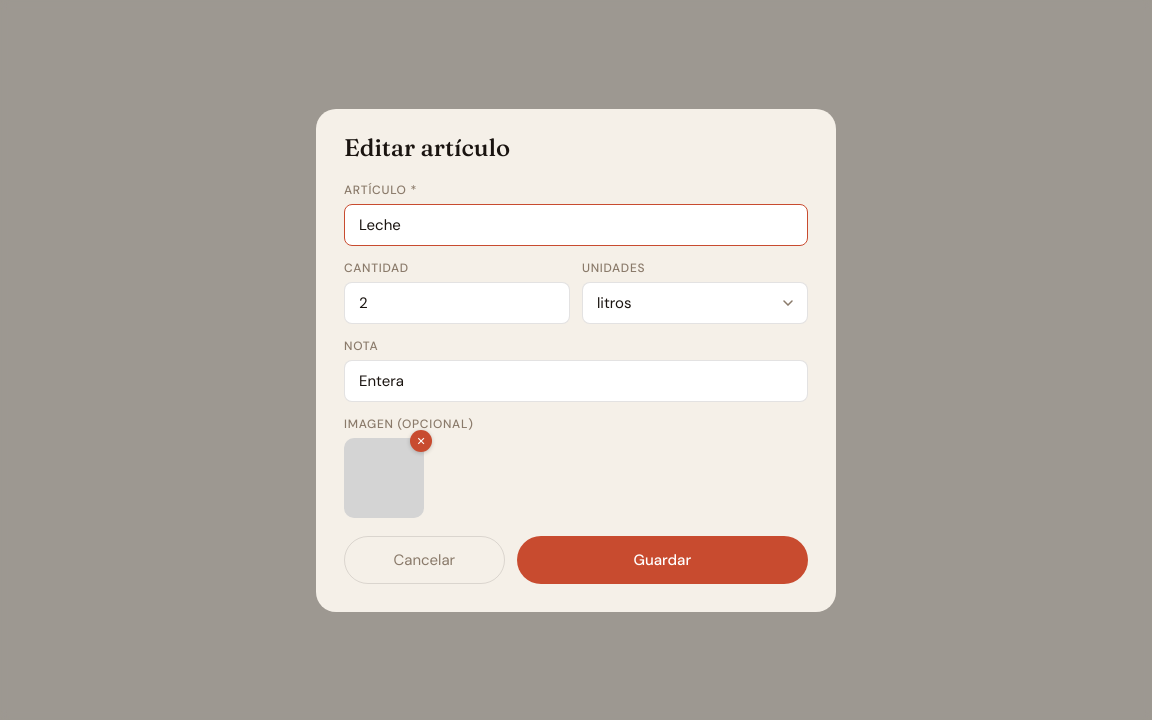
Test case: AddItemSheet › remove image button clears the preview
This screenshot has width=1152, height=720.
Click the button "✕".
click(421, 440)  # box [410,430,432,452]
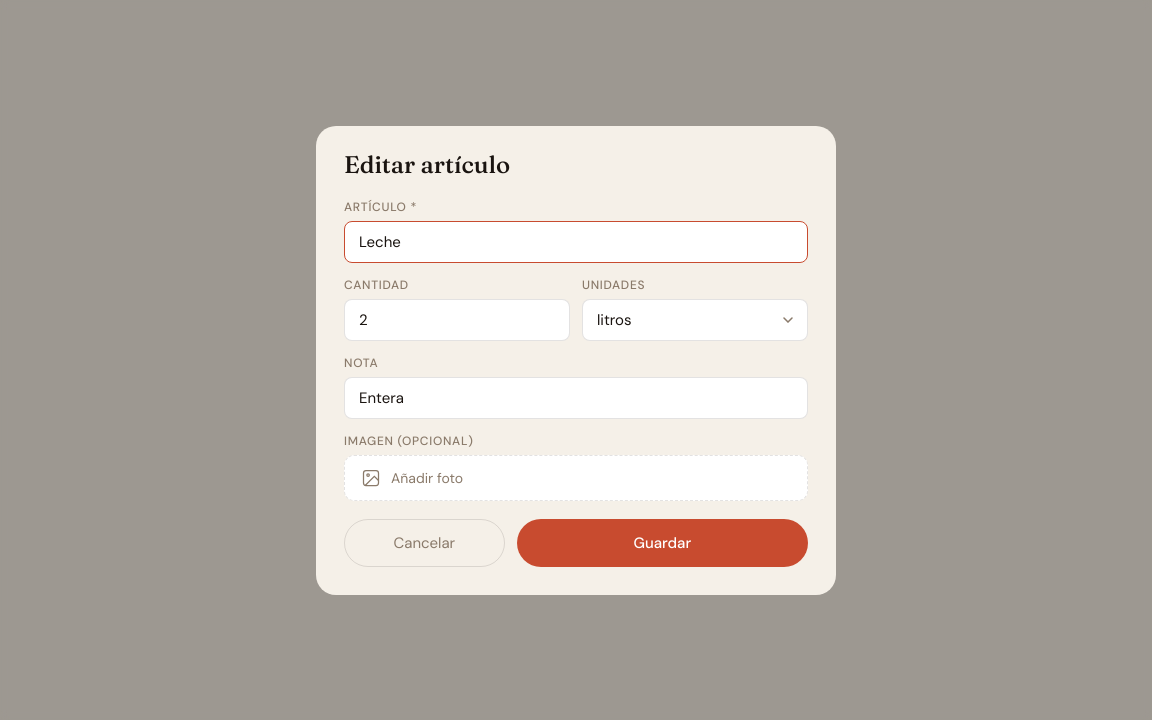
Check: the picture with alt text "preview" is gone
Check: the button "Añadir foto" is shown, box [344,454,808,500]
